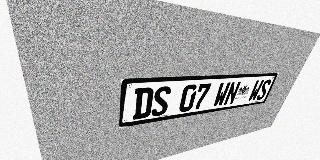0: (178, 84, 198, 113)
7: (192, 83, 212, 111)
D: (132, 87, 154, 120)
N: (223, 81, 241, 106)
S: (151, 86, 172, 117), (255, 79, 272, 101)
W: (212, 82, 231, 107), (247, 80, 264, 102)
